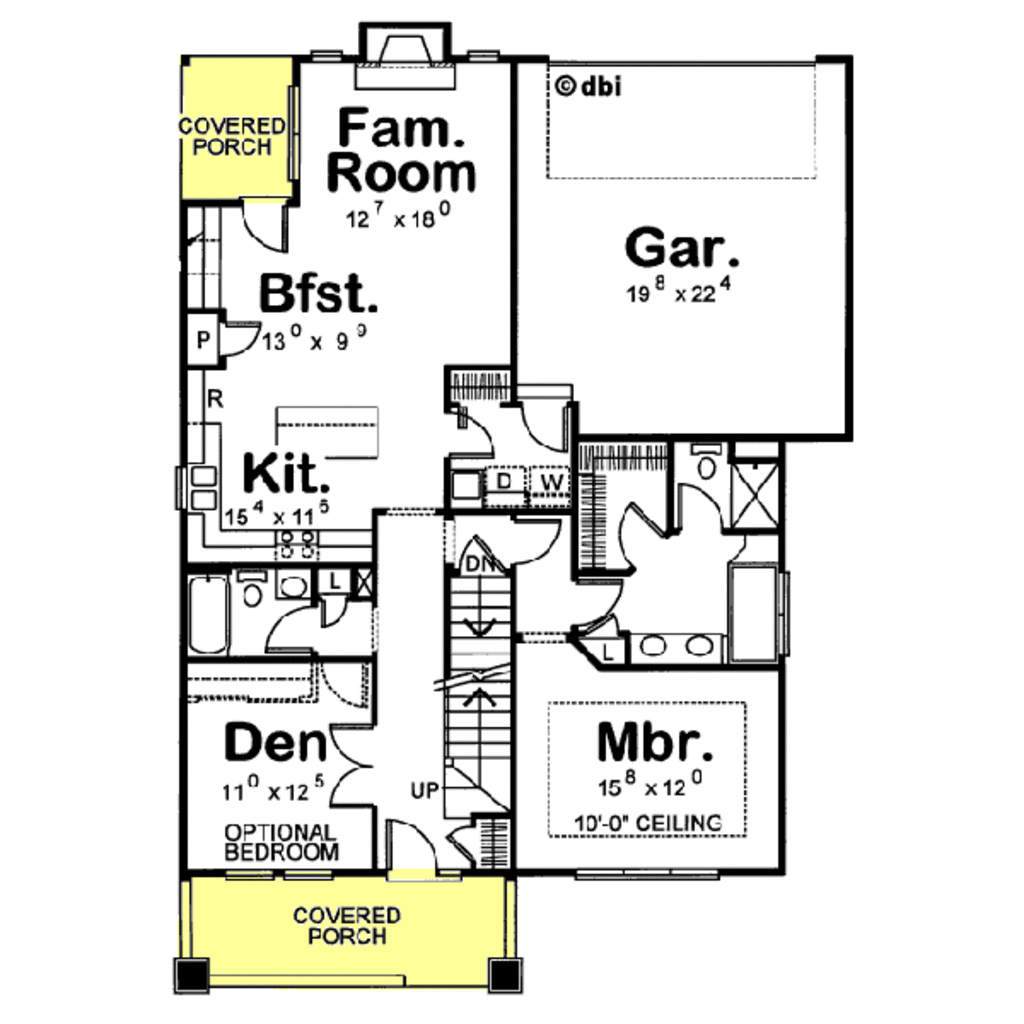door: (315, 722, 390, 811), (502, 393, 575, 457), (664, 473, 730, 538), (382, 822, 448, 884), (236, 192, 296, 256), (307, 658, 377, 712), (503, 511, 576, 562), (615, 500, 670, 567), (565, 575, 633, 626), (447, 530, 513, 581), (265, 602, 323, 659), (212, 306, 259, 361), (446, 410, 496, 460), (441, 819, 484, 870), (716, 533, 755, 563), (315, 595, 353, 625)
small_sink: (626, 631, 719, 662), (267, 568, 316, 604)
stairs: (437, 581, 522, 817)
tub: (724, 563, 778, 665), (188, 571, 233, 662)
twin_sink: (186, 463, 234, 520)
window: (571, 864, 721, 885), (224, 861, 277, 883)
